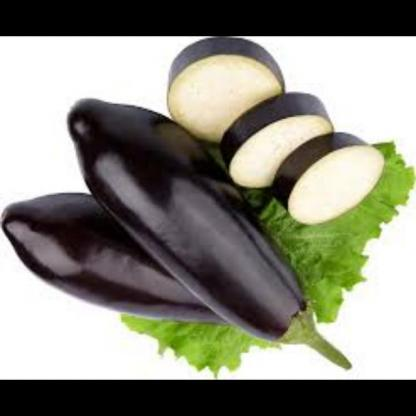eggplant: (54, 87, 340, 374), (136, 42, 389, 218), (0, 221, 252, 336)
